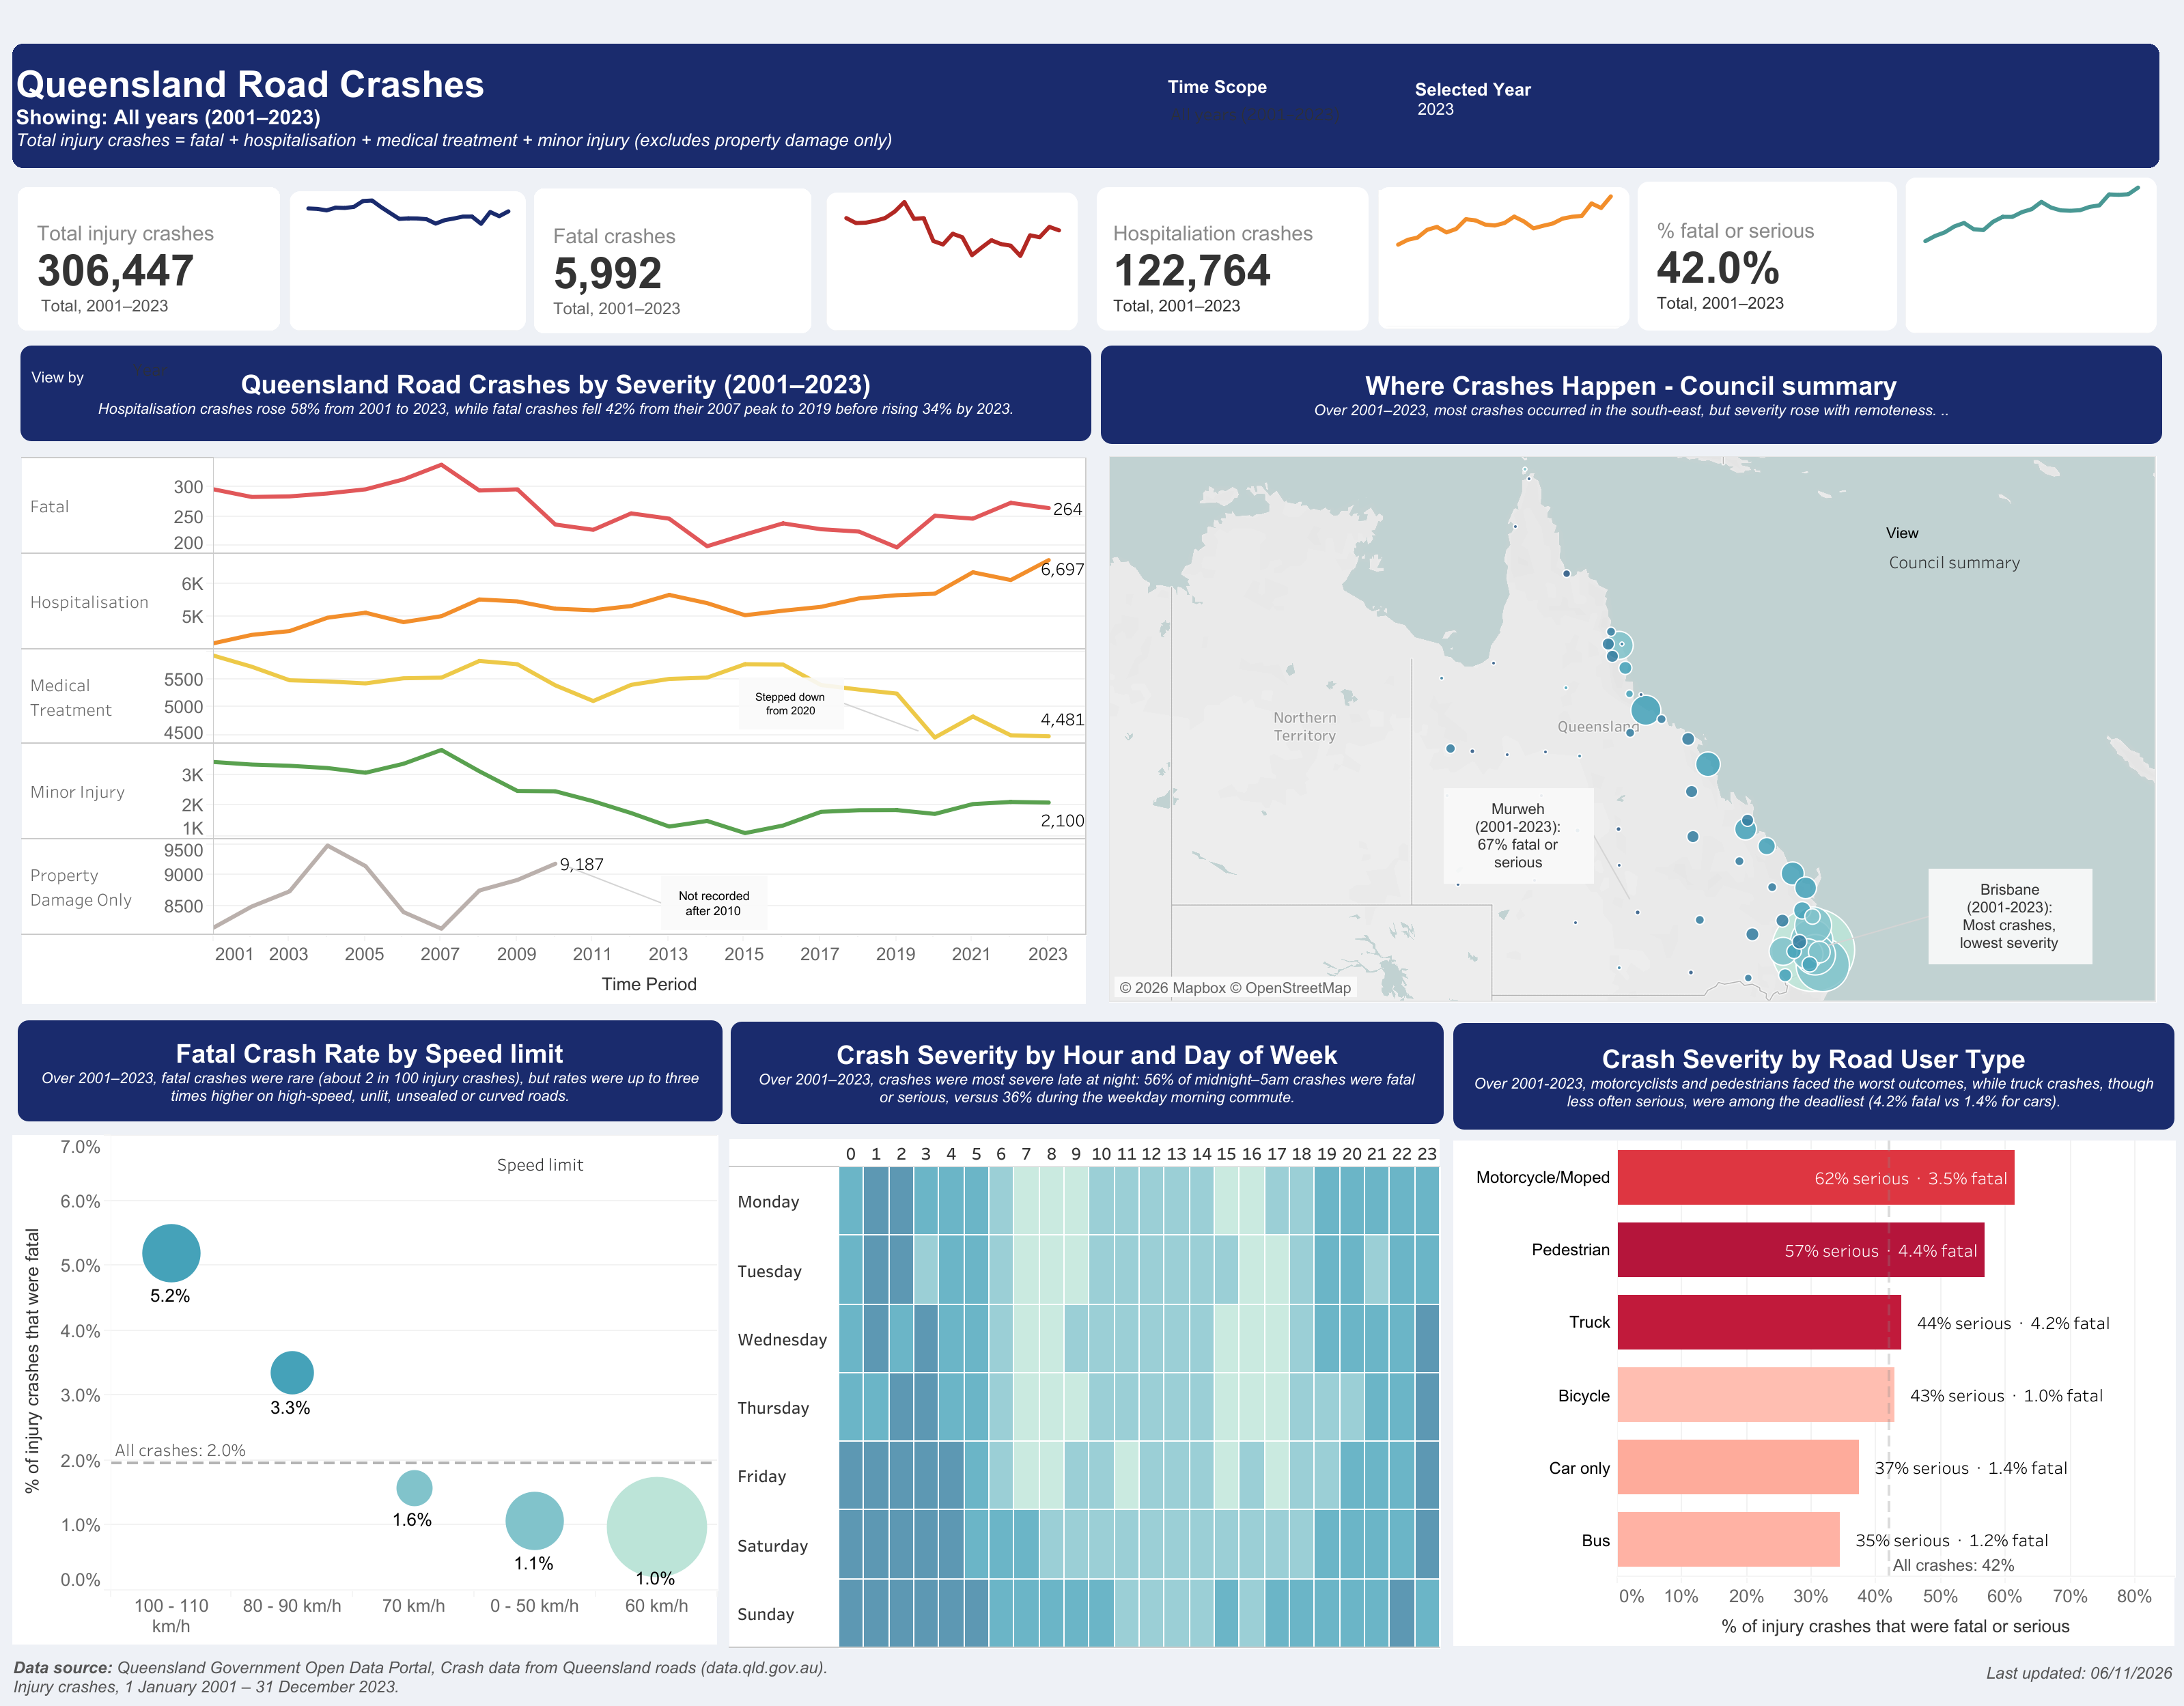

The page's visual inventory and layout, read from the dashboard file:
{"tool":"tableau","page":{"name":"Queensland Road Crashes Dashboard","canvas":[1600,1250],"ordinal":0},"visuals":[{"type":"text","box":[1,24,1588,107]},{"type":"parameter","param":"[Parameters].[Parameter 6356888751968259]","box":[1030,51,296,53]},{"type":"parameter","param":"[Parameters].[Parameter 6356888885346329]","box":[855,55,160,56]},{"type":"worksheet","title":"Spark Serious","mark":"Line","rows":["Calculation_6356888759345175","Calculation_6356888759418904"],"cols":["Crash_Month_Num"],"box":[1391,114,191,136]},{"type":"worksheet","title":"Spark Fatal","mark":"Line","cols":["Crash_Month_Num"],"box":[598,116,204,136]},{"type":"worksheet","title":"Spark Hosp","mark":"Line","cols":["Crash_Month_Num"],"box":[1001,116,196,133]},{"type":"worksheet","title":"Spark Annual Serious","mark":"Line","rows":["Calculation_5639250962497540"],"cols":["Crash_Year"],"box":[1387,122,200,130]},{"type":"worksheet","title":"KPI Serious","mark":"Text","box":[1191,125,206,125]},{"type":"worksheet","title":"KPI Hospitalisation","mark":"Text","box":[793,127,219,125]},{"type":"worksheet","title":"KPI Crashes","mark":"Text","box":[4,128,210,123]},{"type":"worksheet","title":"Spark Crashes","mark":"Line","cols":["Crash_Month_Num"],"box":[202,129,192,124]},{"type":"worksheet","title":"KPI Fatal","mark":"Text","box":[382,129,221,124]},{"type":"worksheet","title":"Spark Annual Hosp","mark":"Line","rows":["Calculation_5639250946494464"],"cols":["Crash_Year"],"box":[1001,129,200,118]},{"type":"worksheet","title":"Spark Annual Crashes","mark":"Line","rows":["Calculation_5639250946494464"],"cols":["Crash_Year"],"box":[204,132,189,118]},{"type":"worksheet","title":"Spark Annual Fatal","mark":"Line","rows":["Calculation_5639250946494464"],"cols":["Crash_Year"],"box":[597,133,200,117]},{"type":"text","box":[7,245,800,86]},{"type":"text","box":[798,245,793,88]},{"type":"parameter","param":"[Parameters].[Parameter 5639250946850817]","box":[23,261,140,31]},{"type":"worksheet","title":"Q2a Map","mark":"Circle","rows":["Crash_Latitude"],"cols":["Crash_Longitude"],"box":[812,334,767,400]},{"type":"worksheet","title":"Q1 Time Series","mark":"Line","rows":["Crash_Severity","Calculation_5639250946494464"],"cols":["Calculation_5639250947264514"],"box":[16,335,780,401]},{"type":"worksheet","title":"Q2b Trend by Remoteness","mark":"Line","rows":["Calculation_5639251002609670"],"cols":["Calculation_3239637056028673"],"box":[807,337,771,402]},{"type":"parameter","param":"[Parameters].[Parameter 0788618659344393]","box":[1381,383,159,47]},{"type":"text","box":[5,739,532,90]},{"type":"text","box":[527,740,538,91]},{"type":"text","box":[1056,741,544,94]},{"type":"worksheet","title":"Q3a Conditions","mark":"Circle","rows":["Calculation_5639251002609670"],"cols":["Calculation_6356888735051777"],"box":[9,831,516,373]},{"type":"worksheet","title":"Q3b Time","mark":"Square","rows":["Crash_Day_Of_Week"],"cols":["Crash_Hour"],"box":[534,834,521,373]},{"type":"worksheet","title":"Q3c Road User","mark":"Automatic","rows":["Primary_Road_User"],"cols":["Calculation_5639250962497540"],"box":[1064,835,528,370]},{"type":"parameter","param":"[Parameters].[Parameter 6356888734736384]","box":[362,843,160,40]},{"type":"text","box":[7,1207,611,41]},{"type":"text","box":[1404,1210,189,30]}]}

Visuals, with their boxes in screenshot pixels (x1, y1, x2, y2), scaled from the page's 1600x1250 canvas onto the 2184x1706 screenshot:
text: region(1, 33, 2169, 179)
parameter: region(1406, 70, 1810, 142)
parameter: region(1167, 75, 1386, 152)
"Spark Serious" worksheet (Line marks): region(1899, 156, 2159, 341)
"Spark Fatal" worksheet (Line marks): region(816, 158, 1095, 344)
"Spark Hosp" worksheet (Line marks): region(1367, 158, 1634, 340)
"Spark Annual Serious" worksheet (Line marks): region(1893, 167, 2166, 344)
"KPI Serious" worksheet (Text marks): region(1626, 171, 1907, 341)
"KPI Hospitalisation" worksheet (Text marks): region(1082, 173, 1382, 344)
"KPI Crashes" worksheet (Text marks): region(5, 175, 292, 343)
"Spark Crashes" worksheet (Line marks): region(276, 176, 538, 346)
"KPI Fatal" worksheet (Text marks): region(522, 176, 823, 346)
"Spark Annual Hosp" worksheet (Line marks): region(1367, 176, 1639, 337)
"Spark Annual Crashes" worksheet (Line marks): region(279, 180, 537, 341)
"Spark Annual Fatal" worksheet (Line marks): region(815, 182, 1088, 341)
text: region(10, 335, 1102, 451)
text: region(1089, 335, 2172, 454)
parameter: region(31, 356, 223, 399)
"Q2a Map" worksheet (Circle marks): region(1108, 456, 2155, 1002)
"Q1 Time Series" worksheet (Line marks): region(22, 457, 1087, 1005)
"Q2b Trend by Remoteness" worksheet (Line marks): region(1102, 460, 2154, 1009)
parameter: region(1885, 522, 2102, 587)
text: region(7, 1009, 733, 1132)
text: region(719, 1010, 1454, 1134)
text: region(1442, 1011, 2183, 1140)
"Q3a Conditions" worksheet (Circle marks): region(12, 1134, 716, 1643)
"Q3b Time" worksheet (Square marks): region(729, 1138, 1440, 1647)
"Q3c Road User" worksheet: region(1453, 1140, 2173, 1645)
parameter: region(494, 1151, 712, 1205)
text: region(10, 1647, 843, 1703)
text: region(1916, 1651, 2174, 1692)
